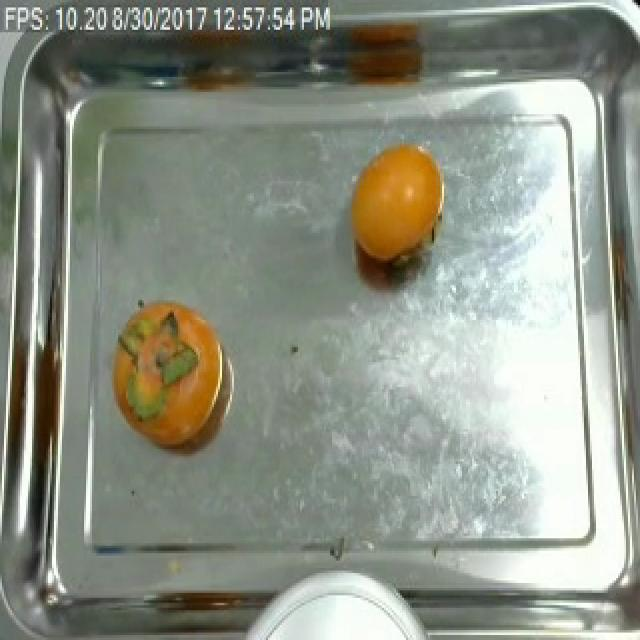Fruit: (112, 293, 230, 461), (340, 132, 454, 290)
